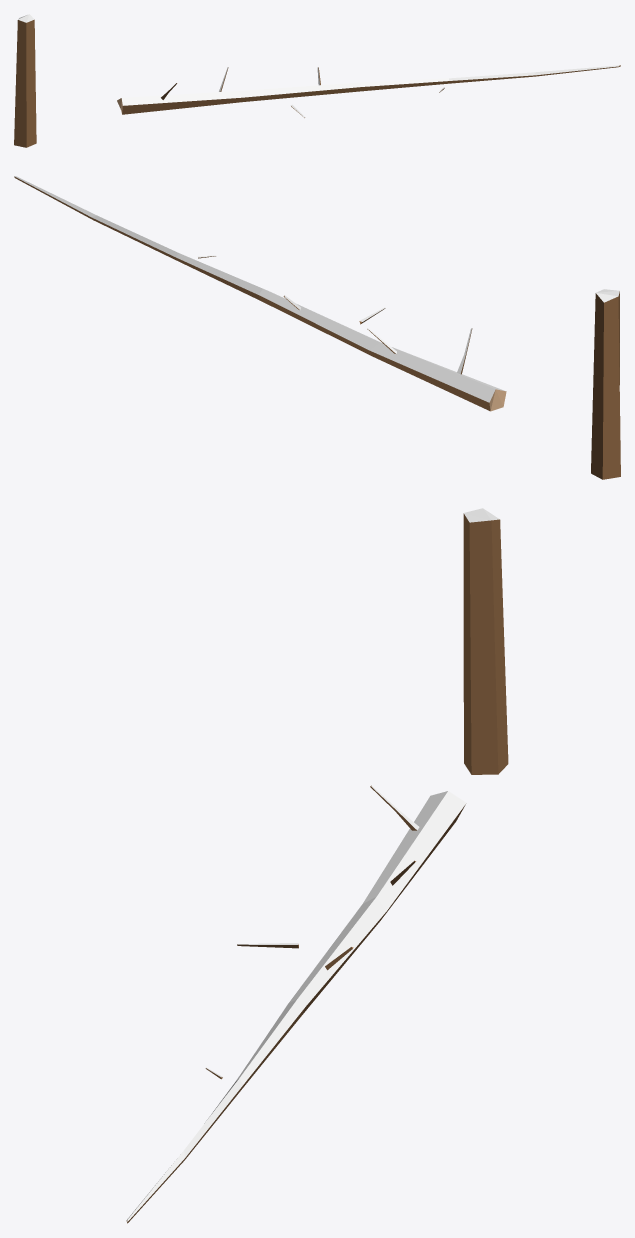
The model's file is Pine_Tree_NoLeaves_crk_l_Snow_08.fbx.
The picture shows the model from 3 angles, top to bottom: view 1: azimuth 30°, elevation 25°; view 2: azimuth 150°, elevation 25°; view 3: azimuth 270°, elevation 25°; orthographic projection. The views are drawn at different scales.
Parts seen in each view (by area): view 1: Pine_Tree_NoLeaves_crk_l_Snow_08; view 2: Pine_Tree_NoLeaves_crk_l_Snow_08; view 3: Pine_Tree_NoLeaves_crk_l_Snow_08.
Boxes of the visible parts, x1,y1,x2,y2 form: Pine_Tree_NoLeaves_crk_l_Snow_08: (14,14,620,147); Pine_Tree_NoLeaves_crk_l_Snow_08: (14,176,620,479); Pine_Tree_NoLeaves_crk_l_Snow_08: (126,508,508,1223).
Bounding box in the file's own units: 1624 × 379 × 519.
